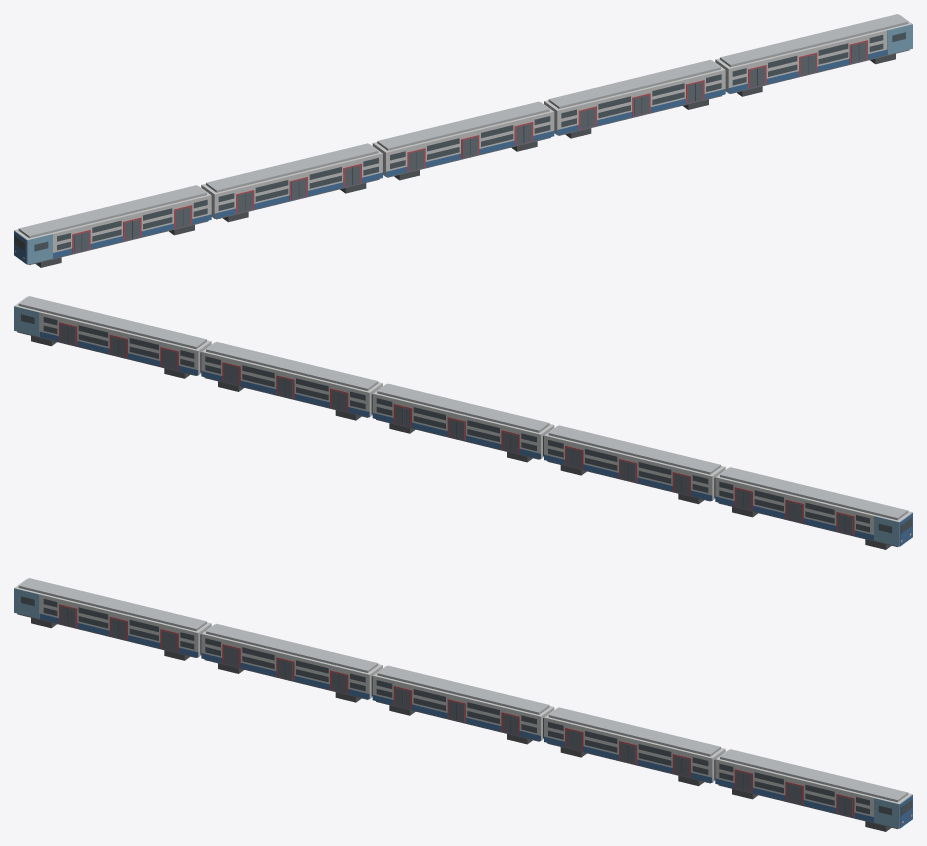
3 renders of one model, top to bottom at view 1: azimuth 30°, elevation 25°; view 2: azimuth 150°, elevation 25°; view 3: azimuth 330°, elevation 25°, orthographic.
Visible parts, largest first — view 1: mi09; view 2: mi09; view 3: mi09.
Boxes of the visible parts, <box> form: mi09: <box>14,14,912,267</box>; mi09: <box>14,296,912,549</box>; mi09: <box>14,578,912,831</box>.
Size of the model in its own units: 112 by 4.2 by 3.06.
